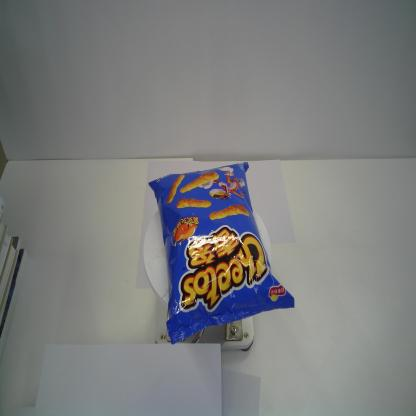Puffed Food: (146, 160, 296, 347)
